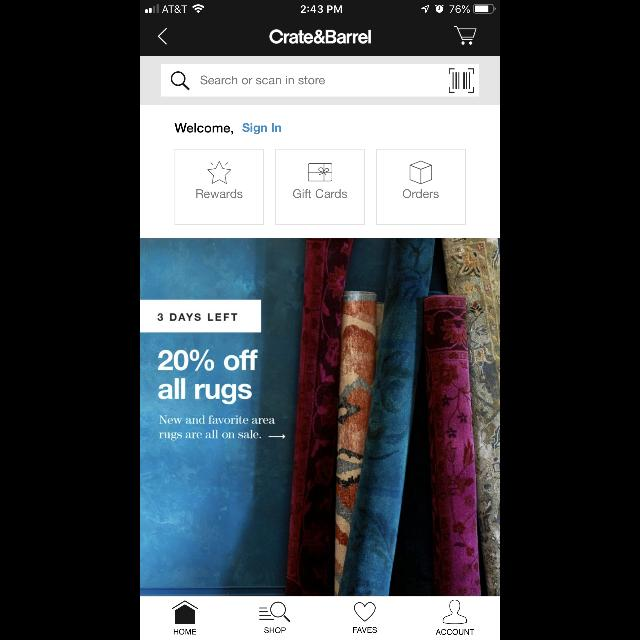icon: (172, 600, 198, 624), (260, 602, 290, 622), (443, 600, 467, 624), (207, 161, 231, 185), (354, 602, 376, 622), (308, 163, 332, 181), (454, 27, 476, 46), (170, 72, 190, 90), (158, 28, 166, 46), (268, 434, 286, 440)
image: (140, 238, 500, 596), (376, 149, 466, 225), (174, 149, 264, 225), (276, 149, 364, 225), (448, 69, 474, 93), (410, 160, 432, 184)
input: (162, 65, 478, 97)
text: (158, 350, 258, 404), (158, 415, 276, 441), (269, 30, 371, 44), (175, 124, 281, 134), (201, 76, 325, 84), (158, 313, 238, 321), (293, 190, 347, 198), (197, 190, 243, 198), (403, 190, 439, 198), (436, 629, 474, 635), (353, 627, 377, 633), (264, 627, 286, 633), (174, 629, 196, 635)
uppertaskbar: (140, 0, 500, 14)
